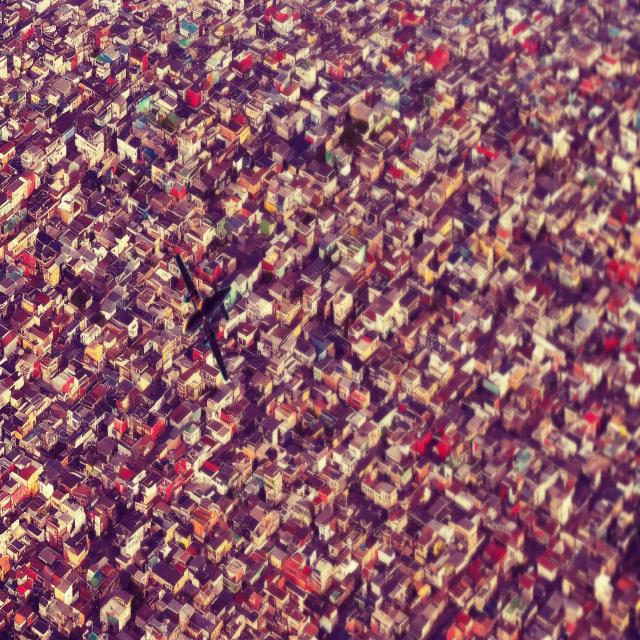airplane: (174, 251, 236, 381)
